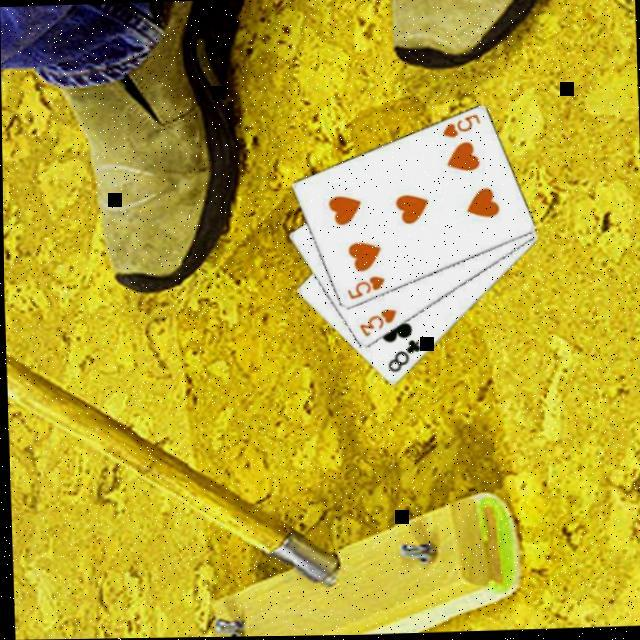3H: (353, 307, 398, 341)
5H: (438, 112, 482, 144), (342, 274, 386, 304)
8C: (382, 338, 422, 377)
